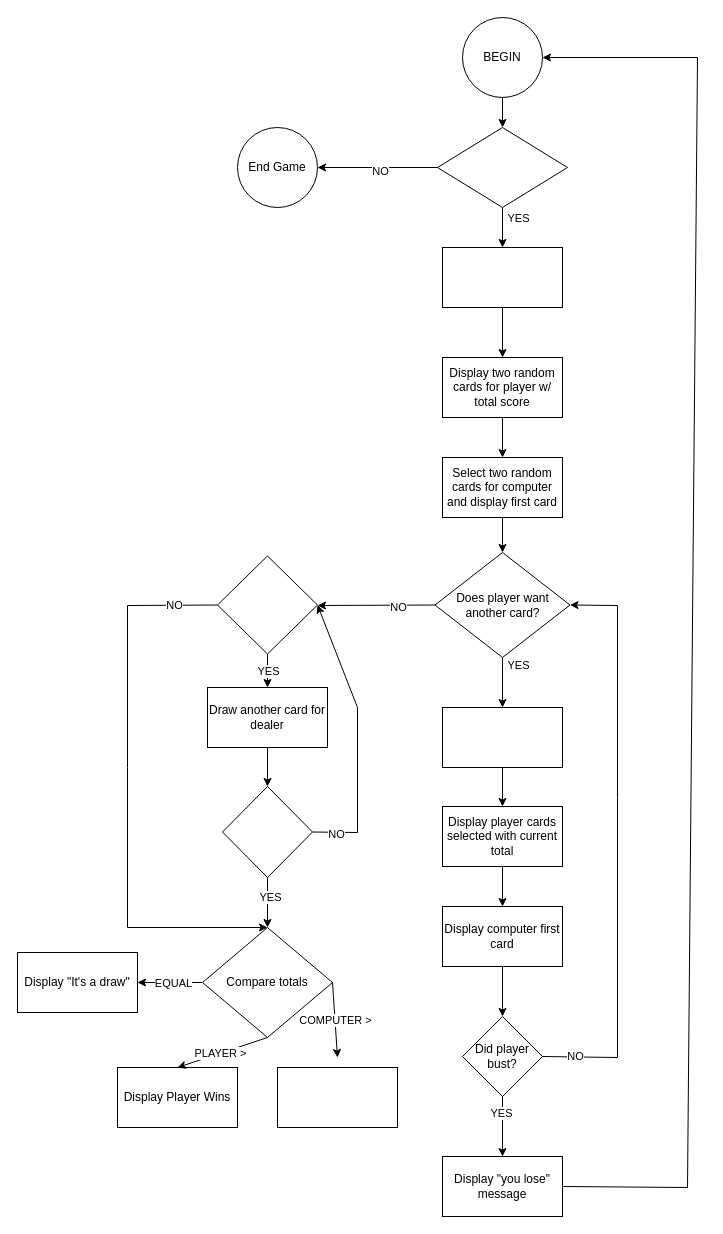
This 723x1234 diagram has some shape labels left out. The centre of each missing label's shape, as x and y in pixels:
Did dealer bust?: [267,832]
Display Art: [502,277]
Display Computer Wins: [337,1097]
Is computer total <= 16?: [267,604]
Play a game?: [502,167]
Select a random card for player: [502,737]
